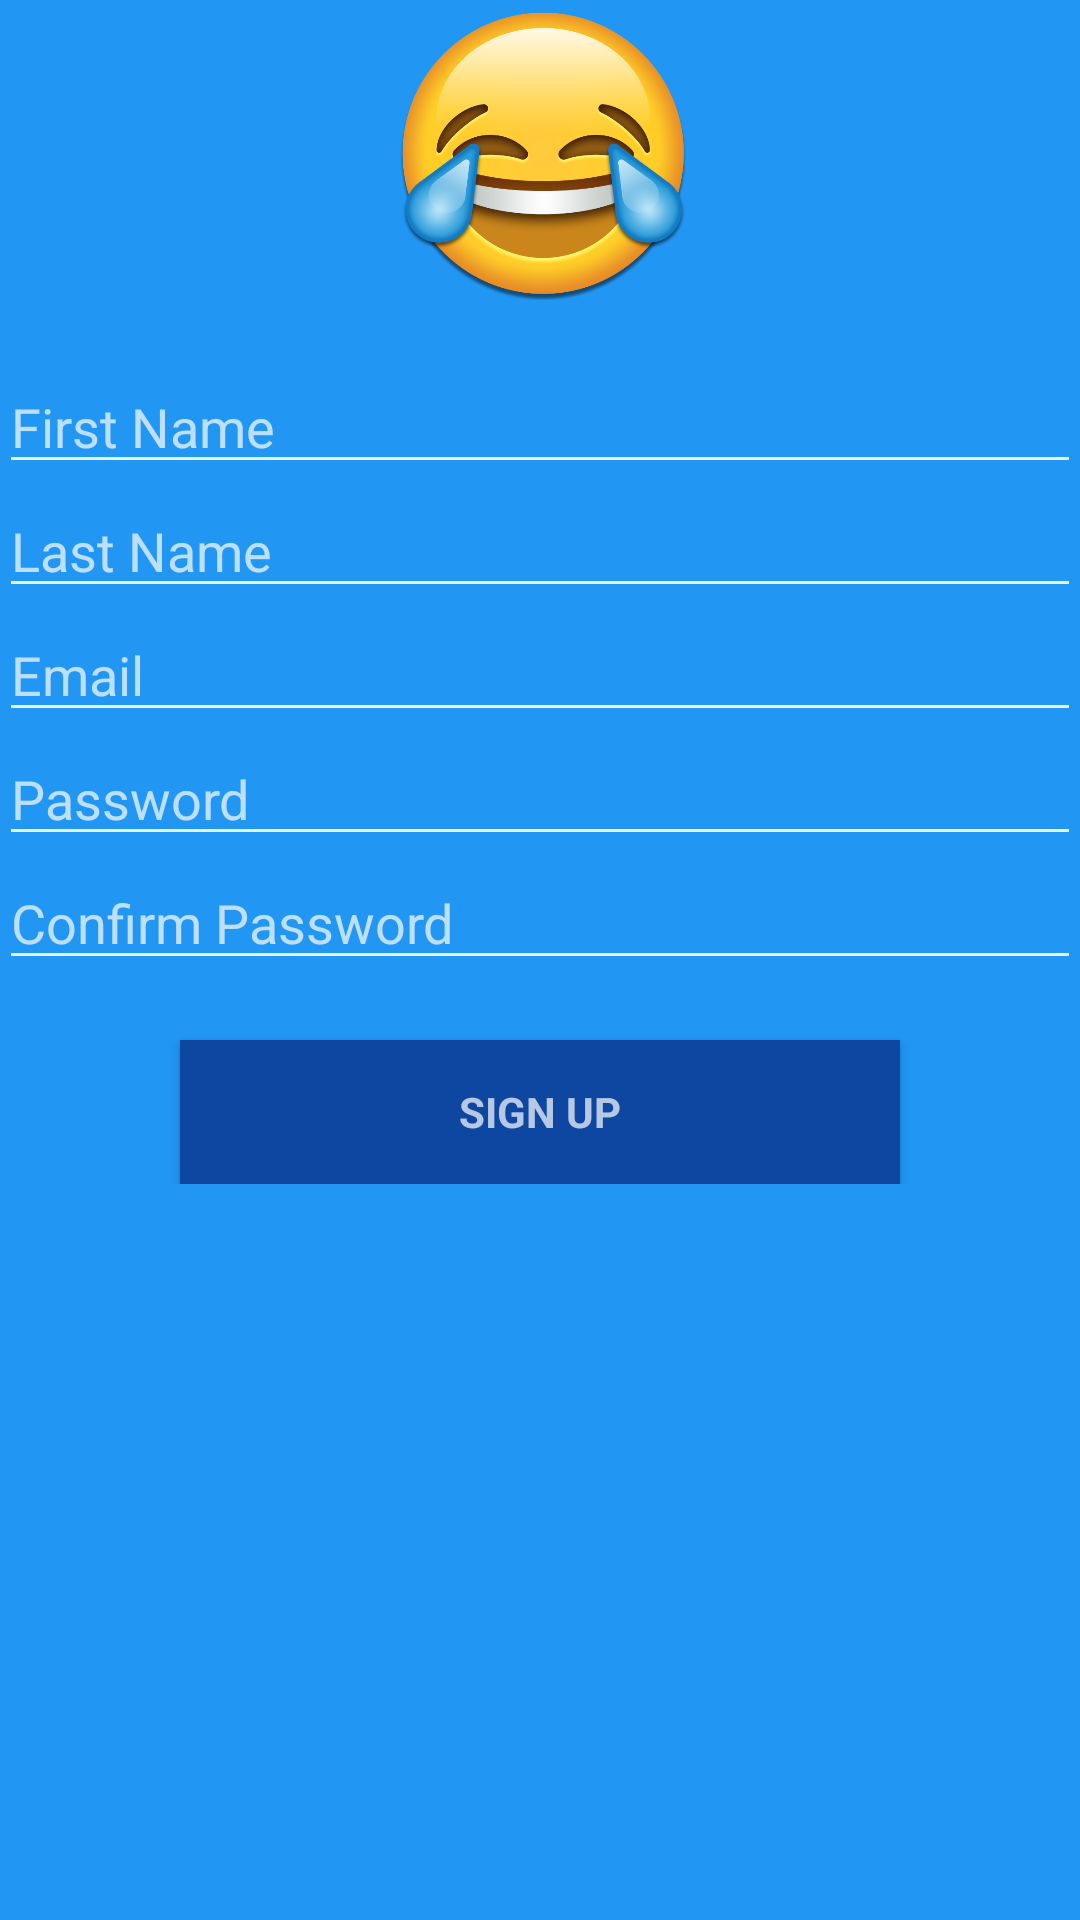

Named icons in this screenshot (1080 x 1920) and their centers, [x,y]:
laugh: [543,156]
